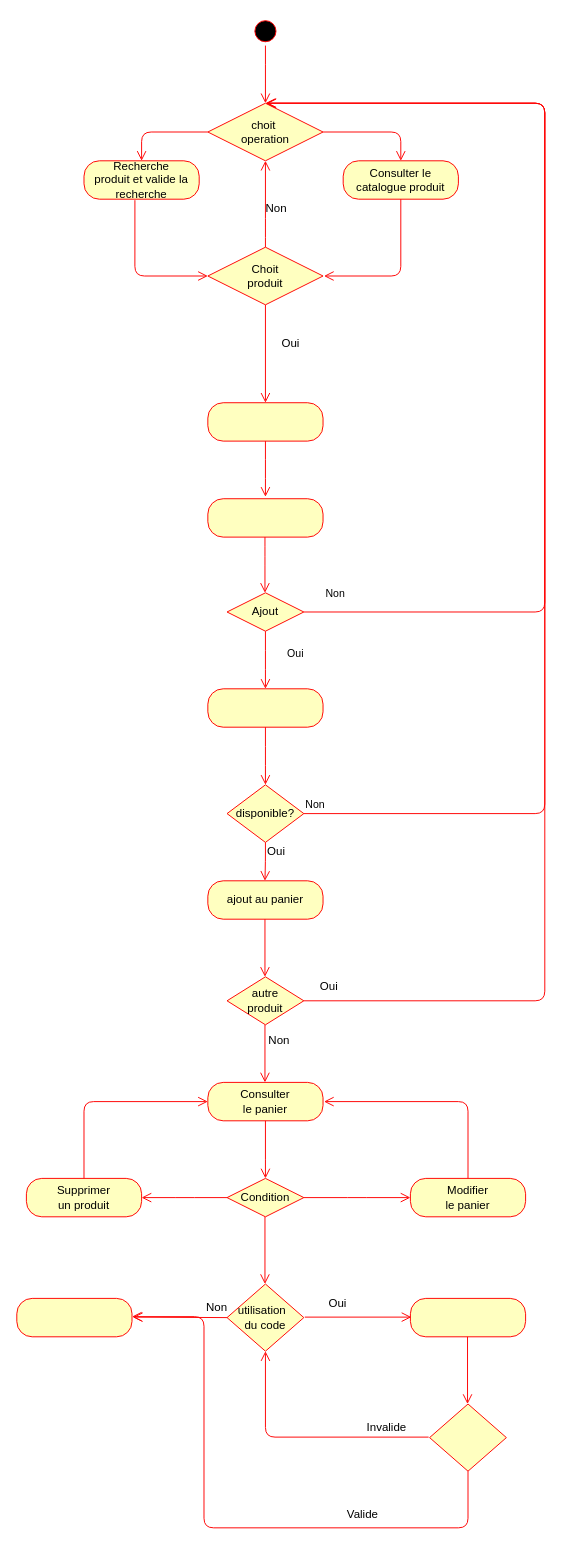
Image size: 571x1554. Some labels were removed from this diagram. Each missing label, with the centre of its shape:
choit attribute: the point at 265,707
Consulter le fiche produit: the point at 265,517
Saisir le code promo: the point at 467,1317
Selectionner un produit: the point at 265,421
Validation du code: the point at 467,1437
Validation du panier: the point at 74,1317
